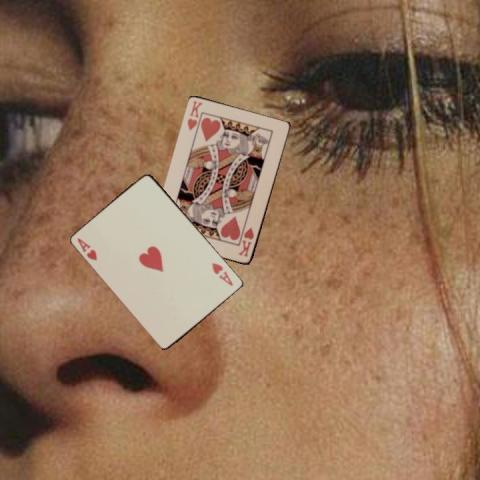Ah: (209, 260, 235, 288), (74, 235, 98, 262)
Kh: (236, 225, 256, 258), (185, 98, 204, 132)
